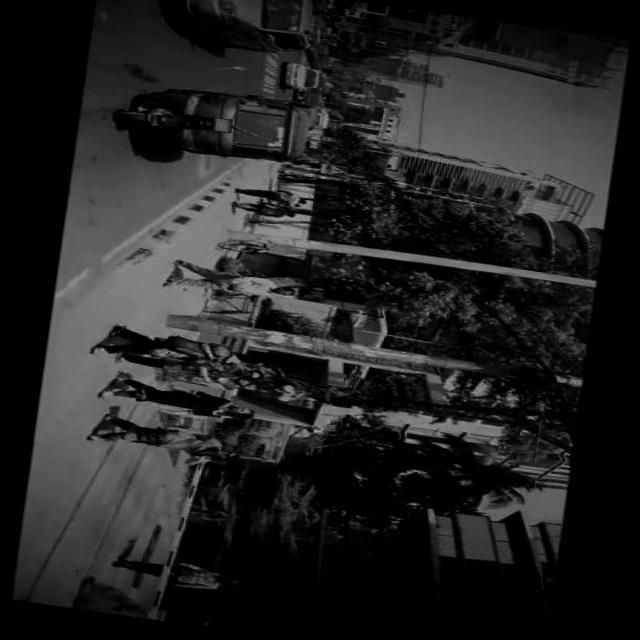car: (174, 0, 323, 58), (287, 62, 324, 92), (298, 89, 324, 104)
motorcycle: (112, 76, 312, 168)
